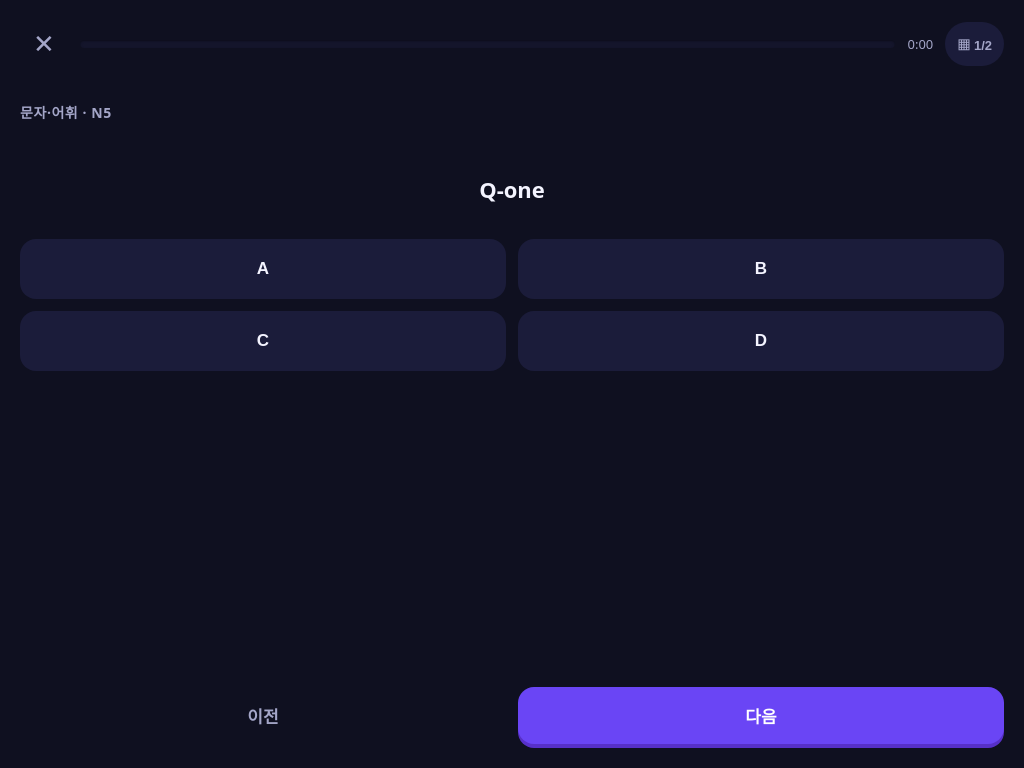
JlptExam flow › advances to the next item and persists progress
This screenshot has width=1024, height=768.
Click the button "A".
click(263, 269)  # box [20,239,506,299]
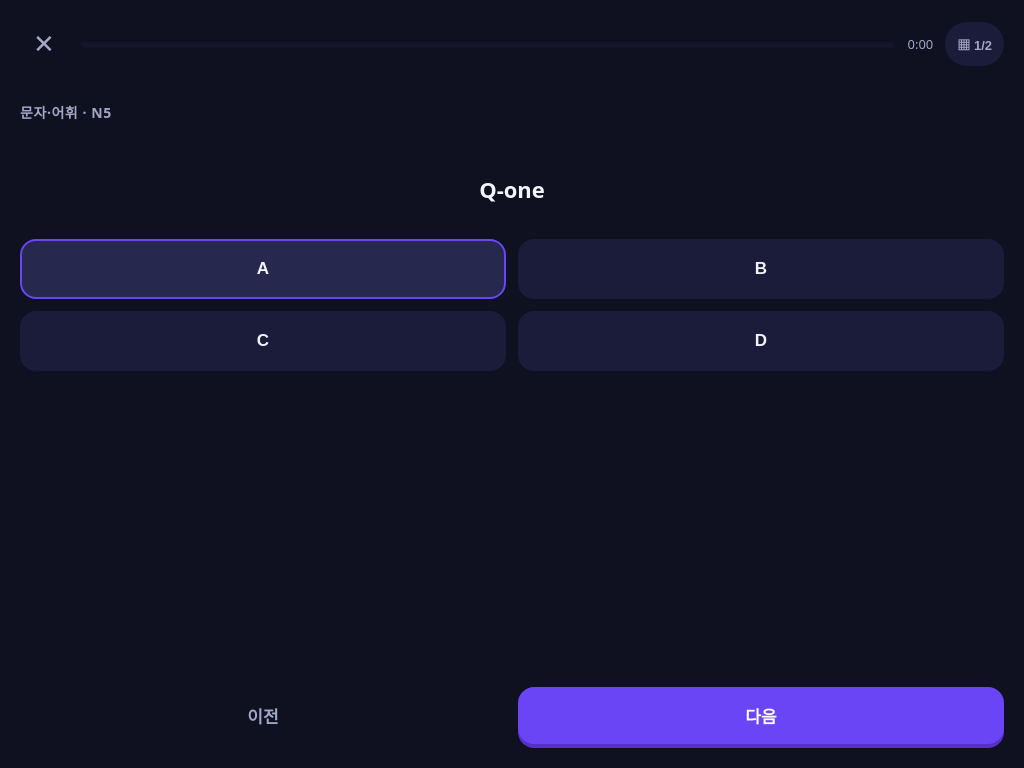
Click the button "다음".
click(761, 716)  # box [518,687,1004,744]
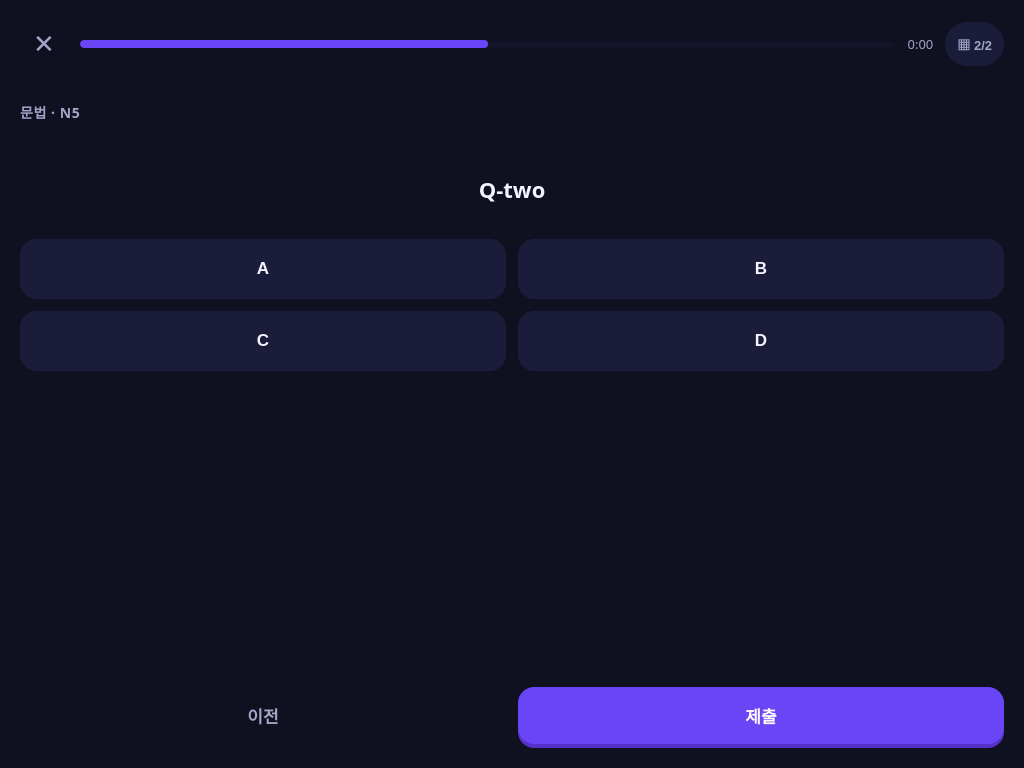
Check: the text "Q-two" is shown, box [479,172,545,207]
Check: the button "▦ 2/2" is shown, box [945,22,1004,66]
